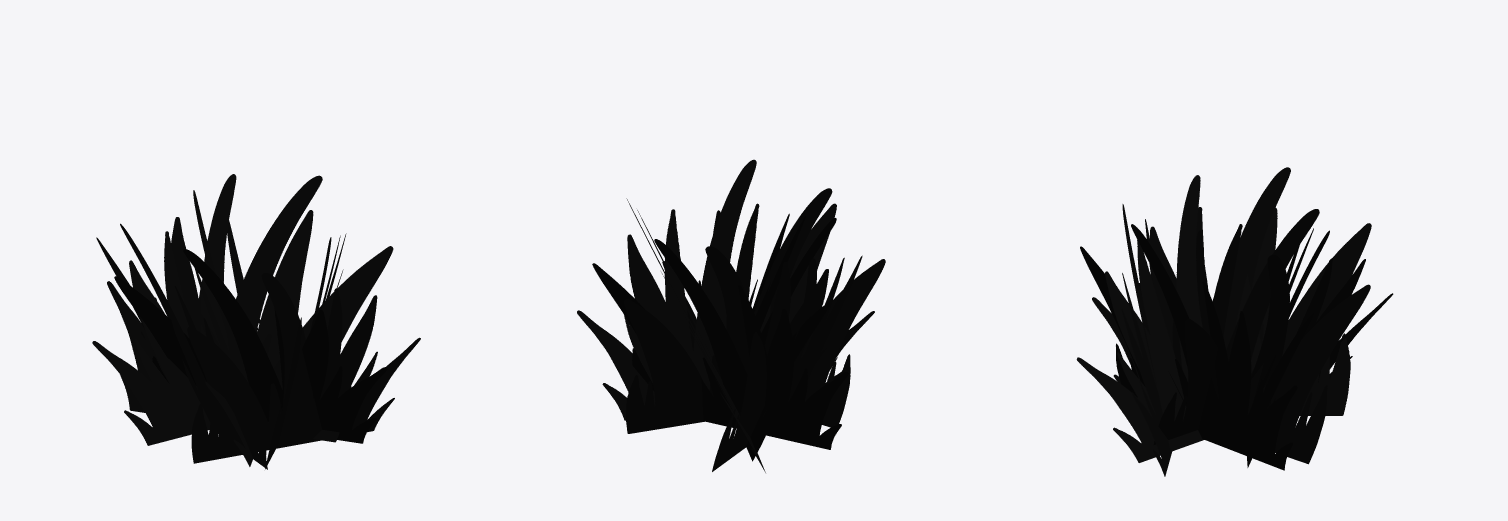
File: grass2.fbx
The picture shows the model from 3 angles, left to right: view 1: azimuth 30°, elevation 25°; view 2: azimuth 150°, elevation 25°; view 3: azimuth 270°, elevation 25°; orthographic projection.
Visible parts, largest first — view 1: Grass_2; view 2: Grass_2; view 3: Grass_2.
Boxes of the visible parts, x1,y1,x2,y2 form: Grass_2: [92, 174, 420, 469]; Grass_2: [577, 159, 885, 472]; Grass_2: [1076, 167, 1393, 476].
Bounding box in the file's own units: 31.03 × 23.94 × 32.95.
